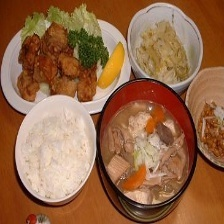rice: (19, 112, 93, 198)
